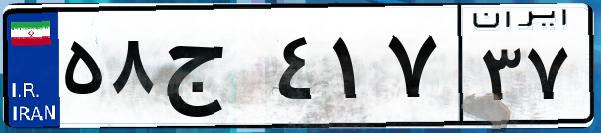1: (330, 28, 385, 110)
3: (475, 38, 525, 113)
4: (270, 28, 330, 110)
5: (57, 26, 110, 100)
7: (385, 28, 445, 110), (525, 38, 570, 115)
8: (110, 28, 158, 98)
ج: (158, 20, 270, 120)
